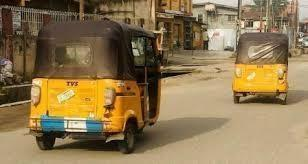keke: (31, 19, 167, 156), (230, 0, 292, 106)
